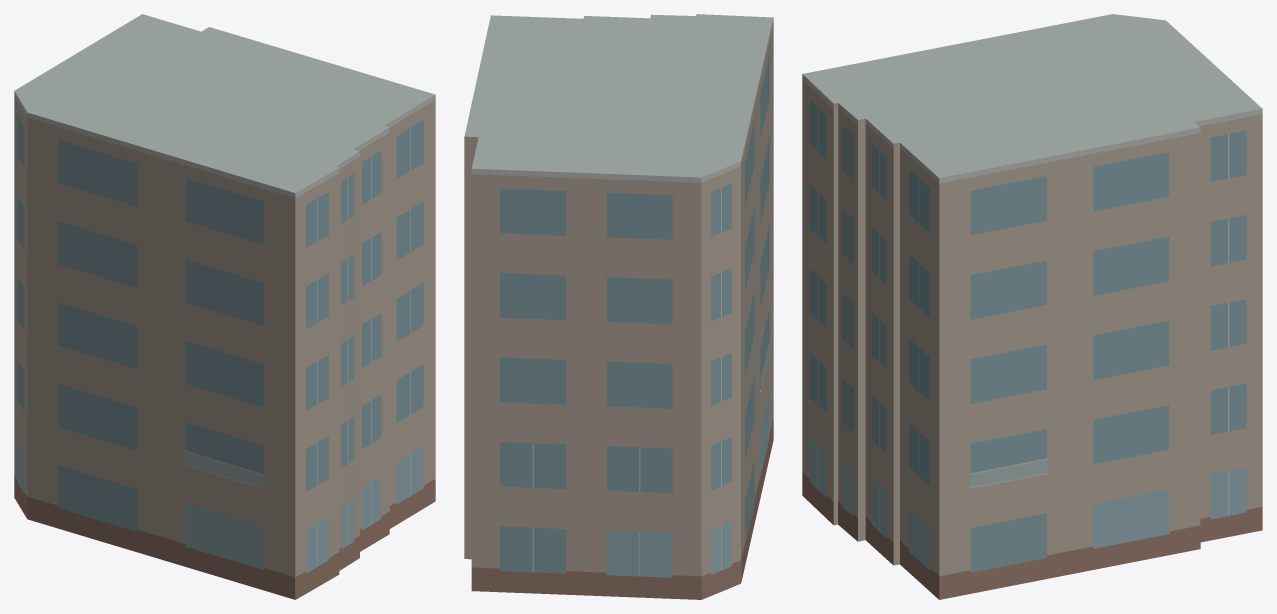
File: survey-upis-33044787.glb
3 views of the same model, side by side, from view 1: azimuth 30°, elevation 25°; view 2: azimuth 150°, elevation 25°; view 3: azimuth 270°, elevation 25° (orthographic). The views are drawn at different scales.
Parts seen in each view (by area): view 1: survey-upis-33044787.tmp; view 2: survey-upis-33044787.tmp; view 3: survey-upis-33044787.tmp.
Part boxes in pixels (left/top/right/bottom): survey-upis-33044787.tmp: left=14, top=14, right=435, bottom=599; survey-upis-33044787.tmp: left=464, top=14, right=773, bottom=599; survey-upis-33044787.tmp: left=802, top=14, right=1262, bottom=599.
Bounding box in the file's own units: 15.88 × 19 × 18.8.
